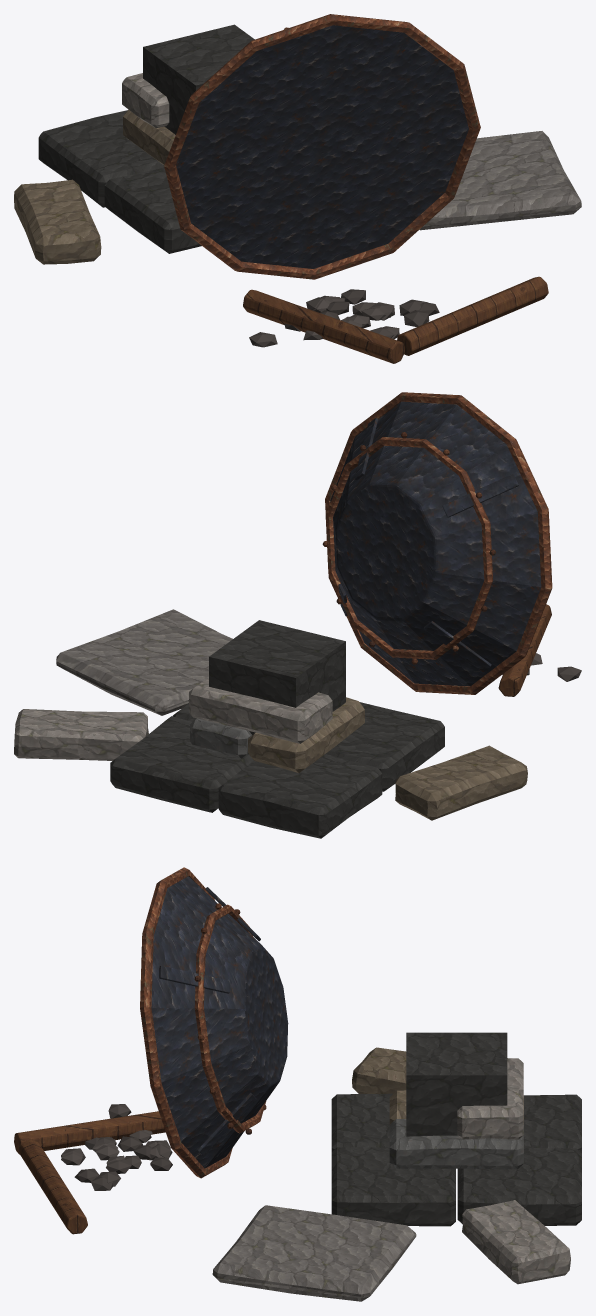
The model's file is beacon_bowl_fallen__cut_stone.glb.
The picture shows the model from 3 angles, top to bottom: view 1: azimuth 30°, elevation 25°; view 2: azimuth 150°, elevation 25°; view 3: azimuth 270°, elevation 25°; orthographic projection. The views are drawn at different scales.
Parts seen in each view (by area): view 1: model; view 2: model; view 3: model.
Part boxes in pixels (box(x1,y1,x2,y2)): model: box(14, 14, 581, 363); model: box(14, 392, 581, 838); model: box(14, 867, 581, 1301).
Size of the model in its own units: 3.31 by 1.84 by 3.38.
28 materials, 9 textured.
